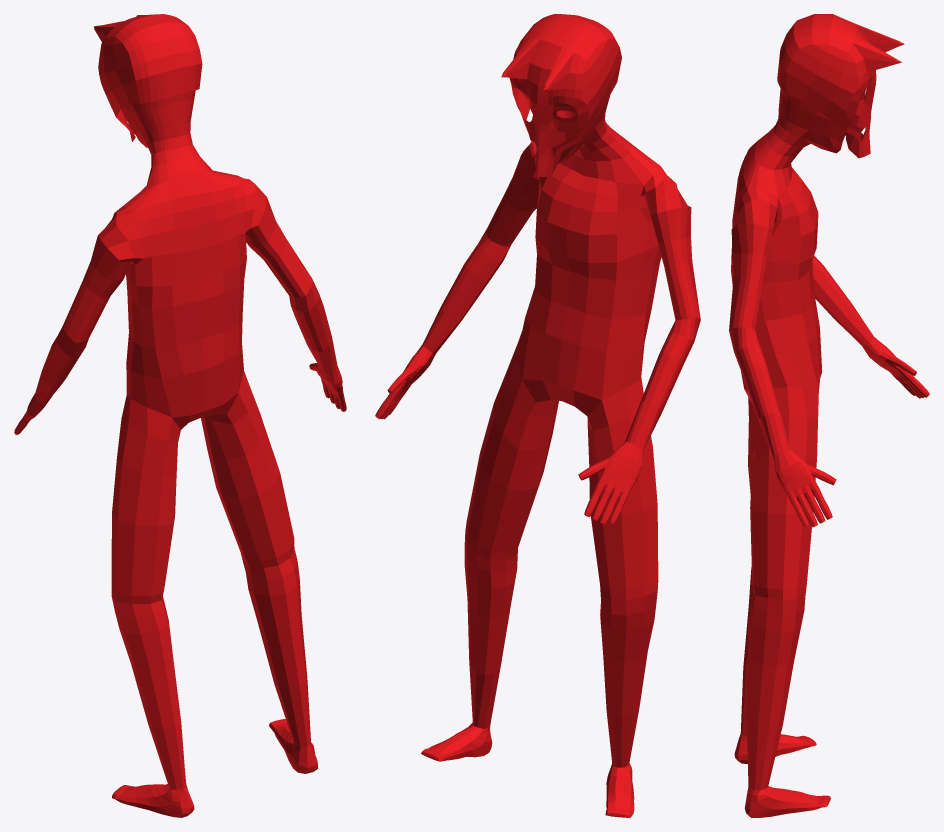
The model's file is reposoE_000299.obj.
The picture shows the model from 3 angles, left to right: view 1: azimuth 30°, elevation 25°; view 2: azimuth 150°, elevation 25°; view 3: azimuth 270°, elevation 25°; orthographic projection. The views are drawn at different scales.
Visible parts, largest first — view 1: Plane.002_Plane.001; view 2: Plane.002_Plane.001; view 3: Plane.002_Plane.001.
Boxes of the visible parts, box(x1,y1,x2,y2) form: Plane.002_Plane.001: box(14, 14, 346, 817); Plane.002_Plane.001: box(375, 14, 700, 817); Plane.002_Plane.001: box(729, 14, 929, 817).
Bounding box in the file's own units: 2.86 × 7.15 × 1.74.
